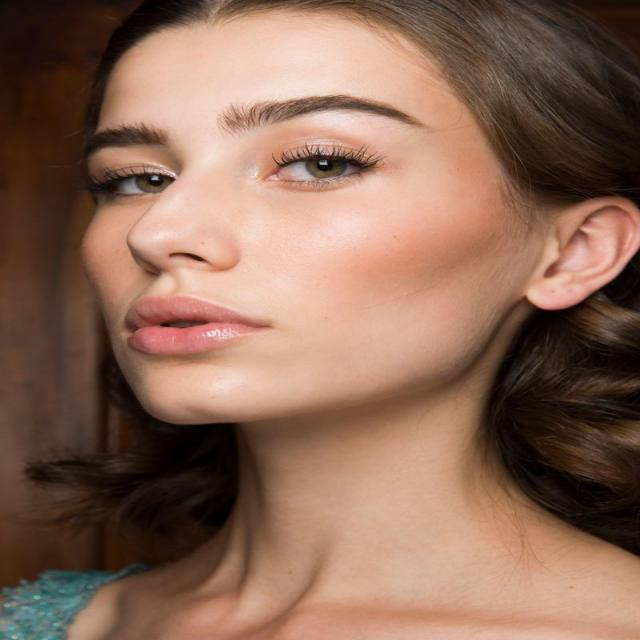earlobe: (529, 196, 640, 312)
